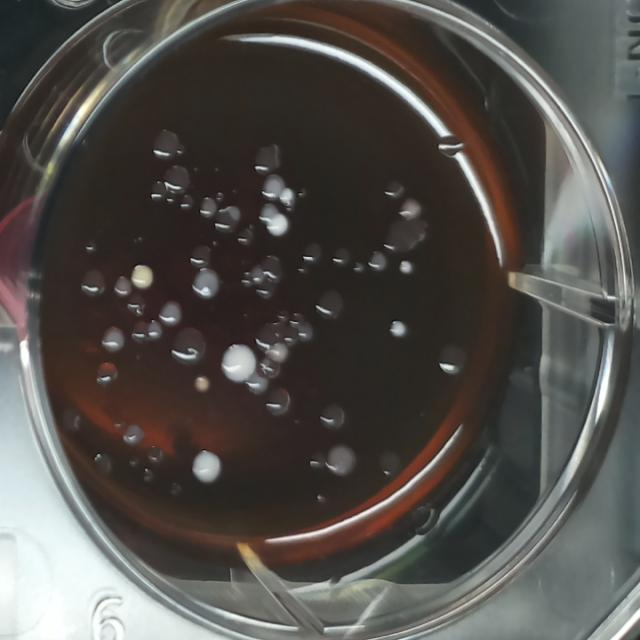Staphylococcus: (216, 340, 259, 388), (186, 446, 225, 489), (128, 261, 156, 293), (266, 211, 292, 240), (384, 315, 408, 343), (192, 372, 213, 398), (397, 256, 416, 278), (278, 185, 296, 205)
Vibrio: (167, 323, 210, 373)
